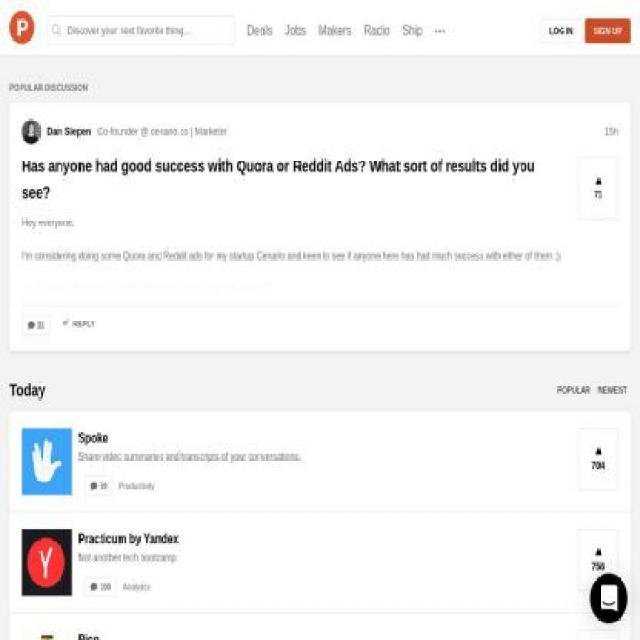button: (9, 512, 631, 614), (9, 412, 631, 513), (22, 214, 566, 289), (22, 152, 566, 206), (9, 613, 631, 639), (578, 428, 618, 490), (578, 529, 618, 591), (578, 157, 618, 218), (589, 573, 628, 624), (584, 18, 631, 44), (540, 18, 582, 44), (9, 11, 34, 51), (47, 123, 91, 140), (85, 577, 117, 597), (22, 119, 47, 144), (84, 476, 113, 496), (22, 314, 50, 334), (118, 479, 156, 493), (122, 580, 152, 594), (578, 630, 619, 639)
field: (47, 16, 235, 46)
